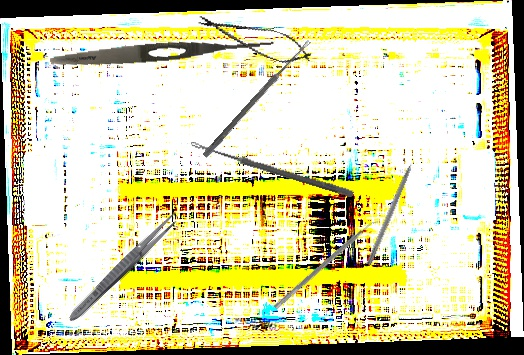Dressing Forceps: (64, 207, 183, 327), (49, 32, 276, 71)
Hook Surgical: (365, 150, 421, 267)
Micro Scissor: (193, 7, 317, 71)
Spatula Surgical: (273, 215, 382, 314)
Surgical Spoon: (202, 38, 312, 159), (189, 140, 355, 198)
